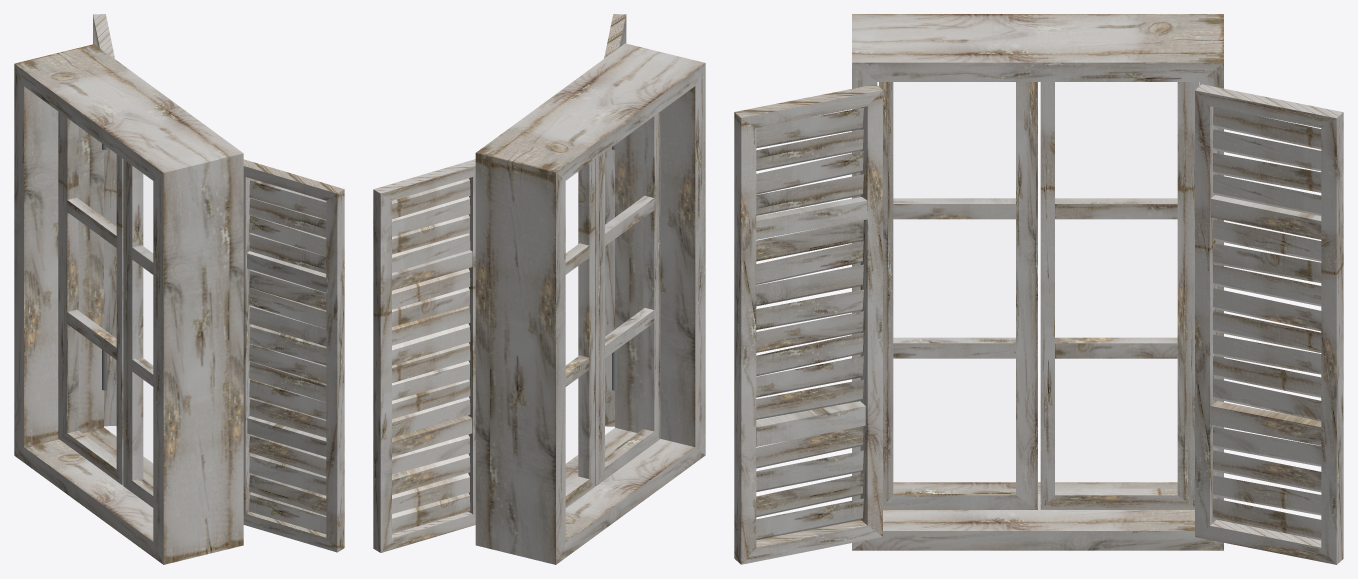
Rendered from OldHouseWindowWoodWhiteOpen.obj.
3 views of the same model, side by side, from view 1: azimuth 30°, elevation 25°; view 2: azimuth 150°, elevation 25°; view 3: azimuth 270°, elevation 25° (orthographic). The views are drawn at different scales.
Visible parts, largest first — view 1: Rectangle02, Rectangle03, Rectangle05, Rectangle01, Rectangle04; view 2: Rectangle02, Rectangle04, Rectangle01, Rectangle05, Rectangle03; view 3: Rectangle03, Rectangle04, Rectangle02, Rectangle05, Rectangle01.
Part boxes in pixels (box(x1,y1,x2,y2)): Rectangle02: box(14, 44, 243, 564); Rectangle03: box(243, 159, 344, 552); Rectangle05: box(58, 111, 123, 485); Rectangle01: box(123, 159, 153, 507); Rectangle04: box(93, 14, 116, 426); Rectangle02: box(475, 43, 705, 564); Rectangle04: box(373, 159, 475, 552); Rectangle01: box(595, 112, 660, 485); Rectangle05: box(565, 159, 595, 507); Rectangle03: box(604, 14, 626, 426); Rectangle03: box(734, 84, 882, 564); Rectangle04: box(1195, 84, 1343, 564); Rectangle02: box(852, 14, 1223, 550); Rectangle05: box(1040, 82, 1199, 509); Rectangle01: box(879, 82, 1037, 509).
Size of the model in its own units: 0.5856 by 1.6 by 1.81.
Materials: 3 (1 with a texture image).
